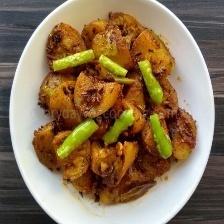sabzi: (31, 9, 197, 204)
